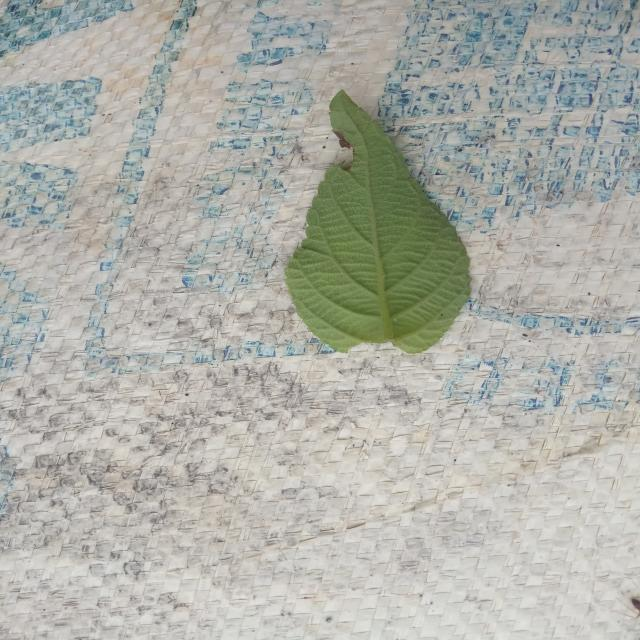Lantana: (285, 91, 470, 354)
